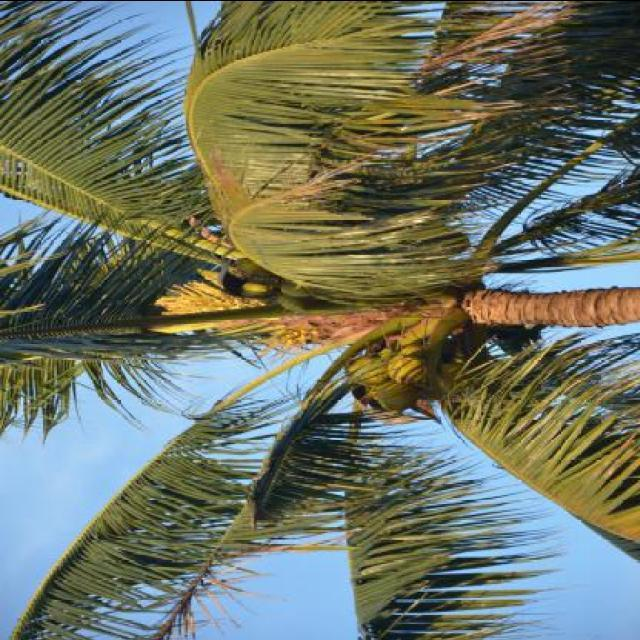Coconut: (342, 340, 474, 414), (232, 256, 322, 312)
